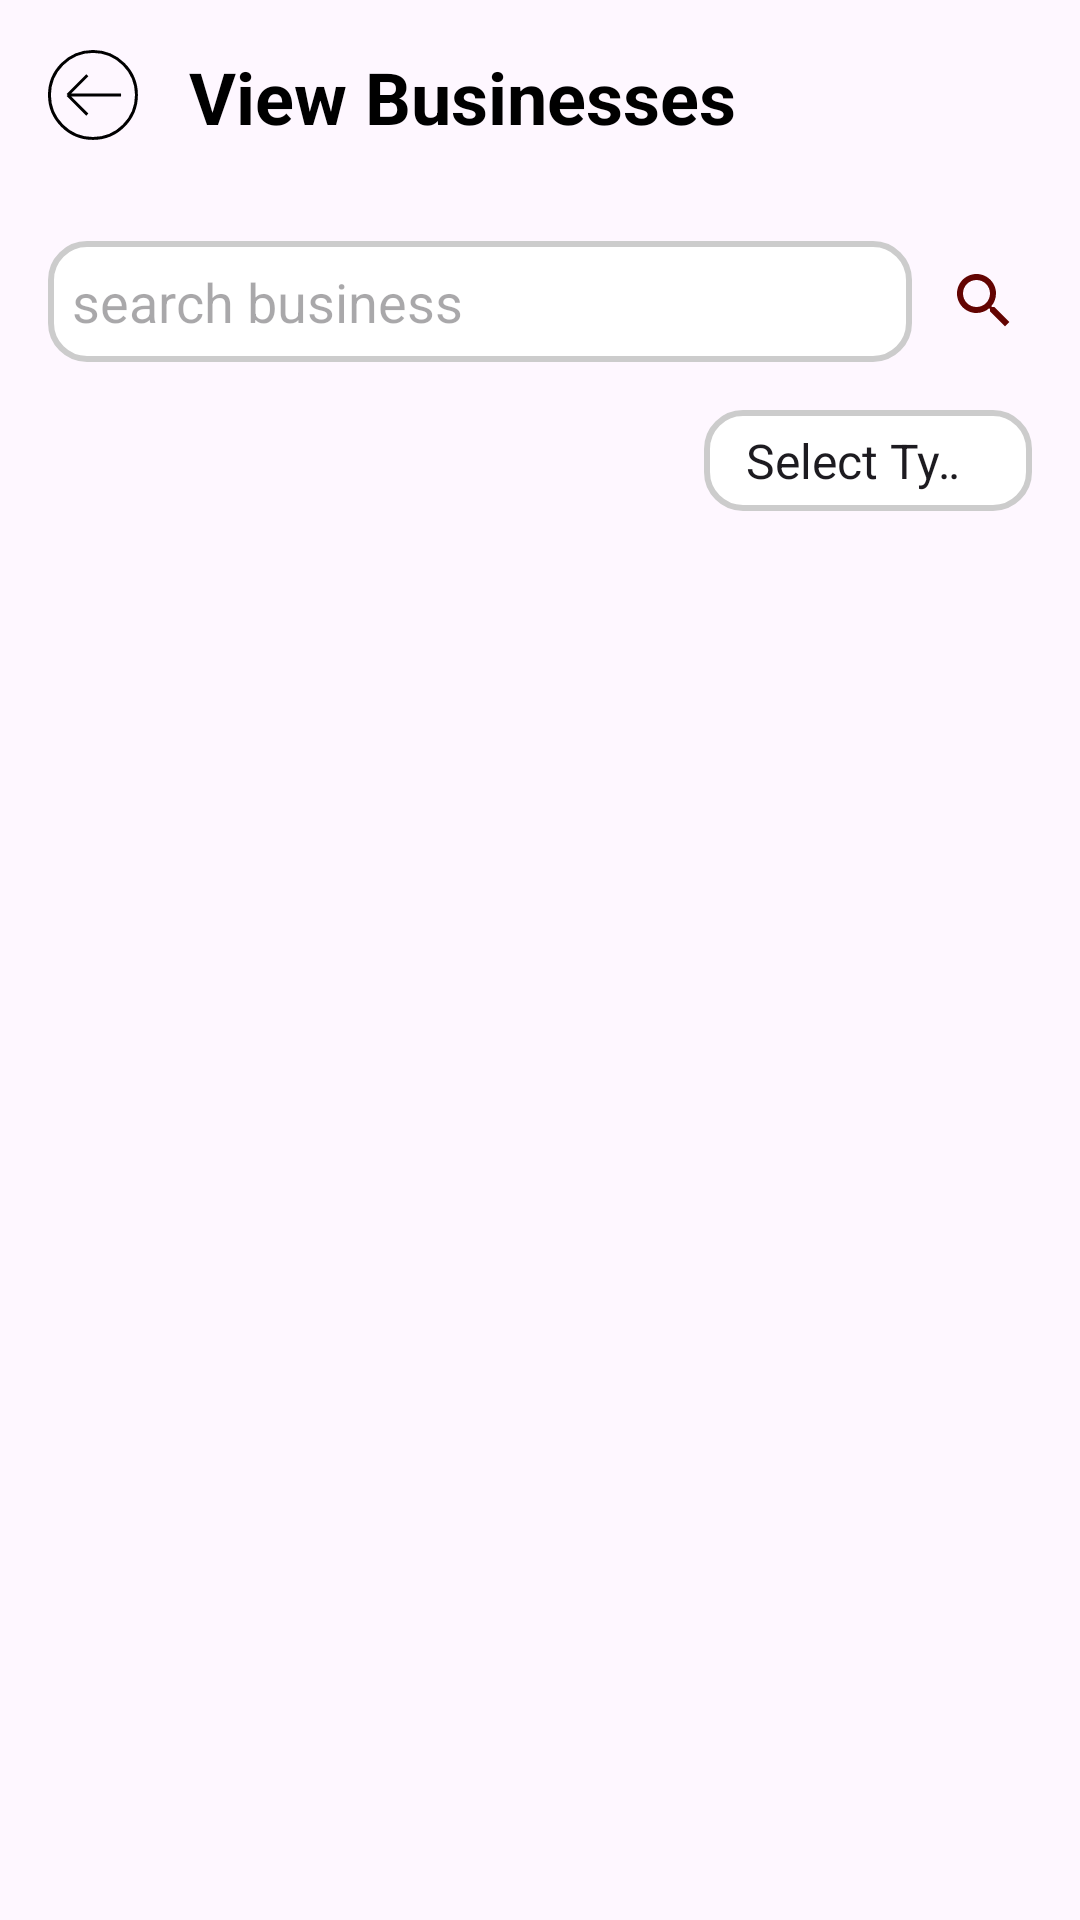

Named icons in this screenshot (1080 × 1920) and their bounding boxes, (x1, y1, x2, y2):
back: (48, 50, 138, 140)
